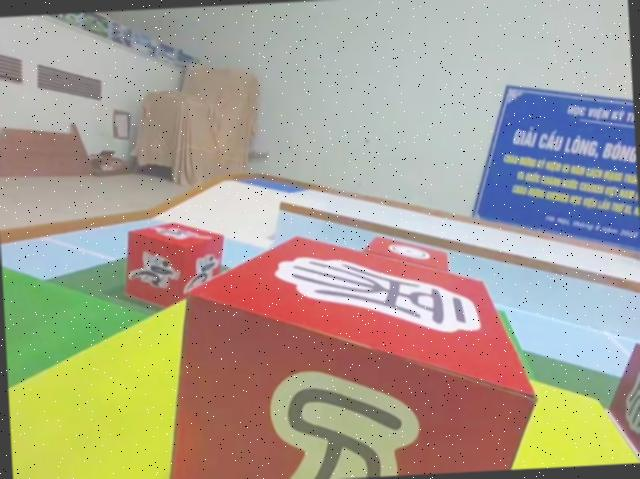R1: (118, 217, 228, 311)
R2 Fake: (150, 218, 541, 479), (601, 337, 640, 464)
